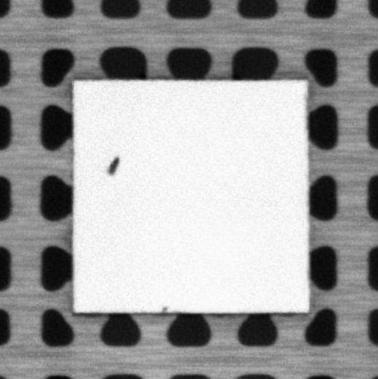DIE_INK: (105, 156, 121, 177)
